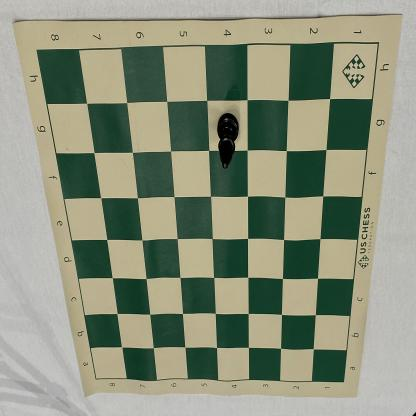black-bishop: (217, 113, 240, 168)
